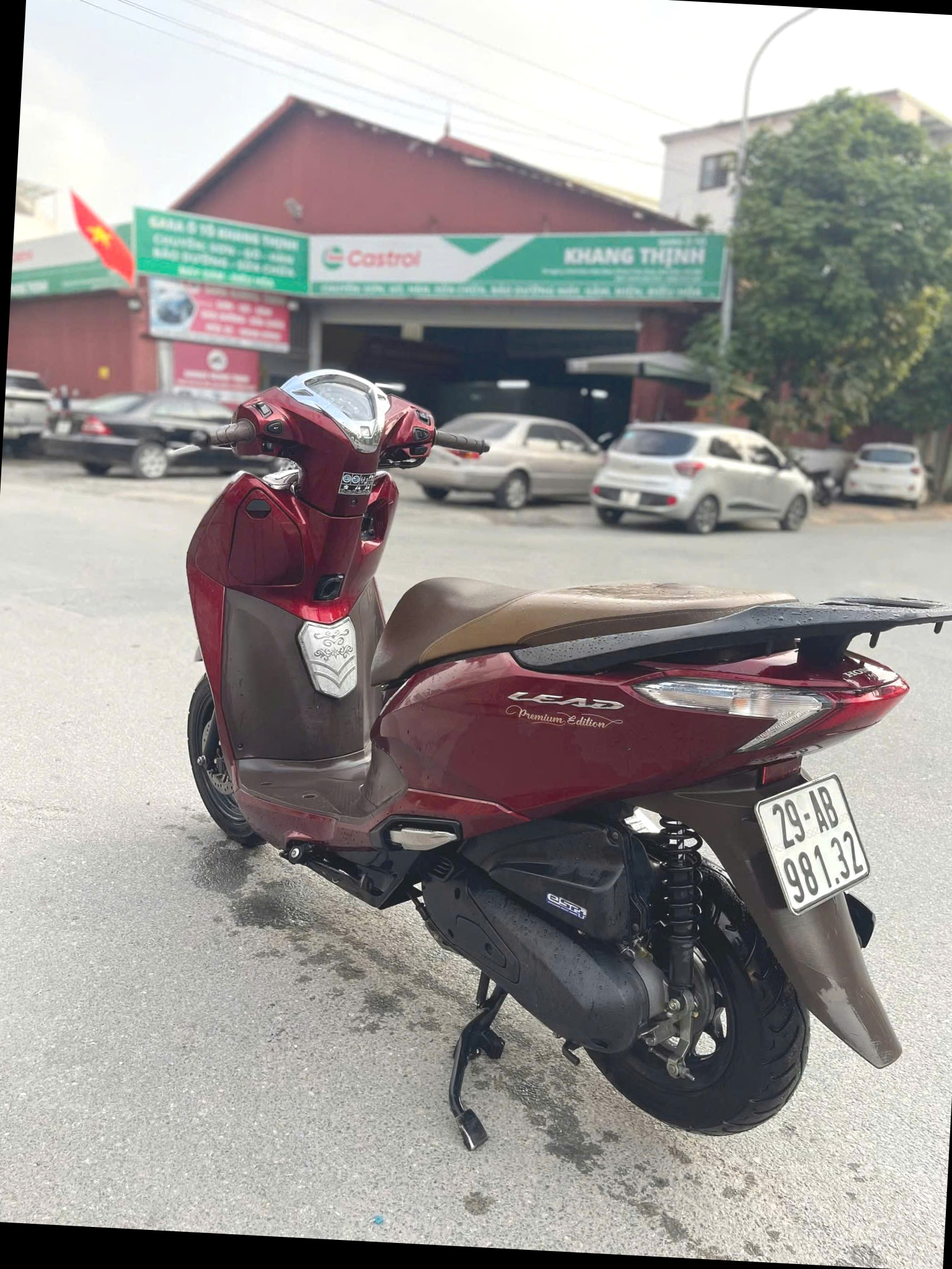Bien-so: (768, 794, 895, 956)
